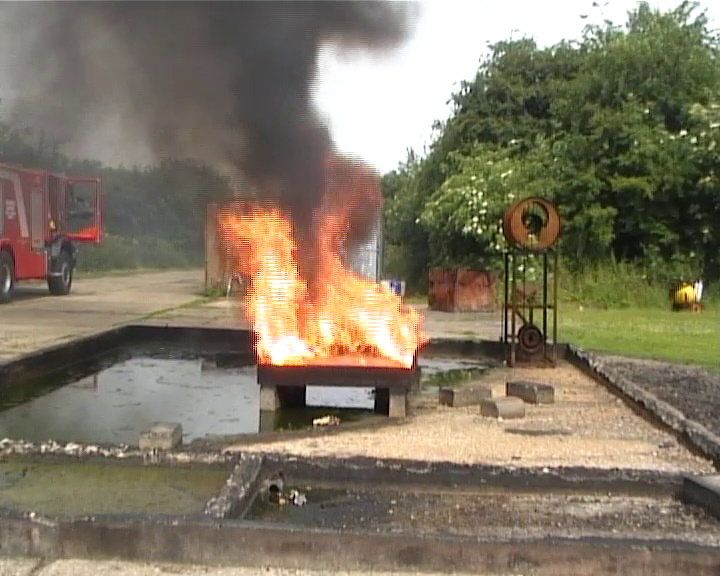fire: (221, 214, 414, 366), (676, 285, 703, 302)
